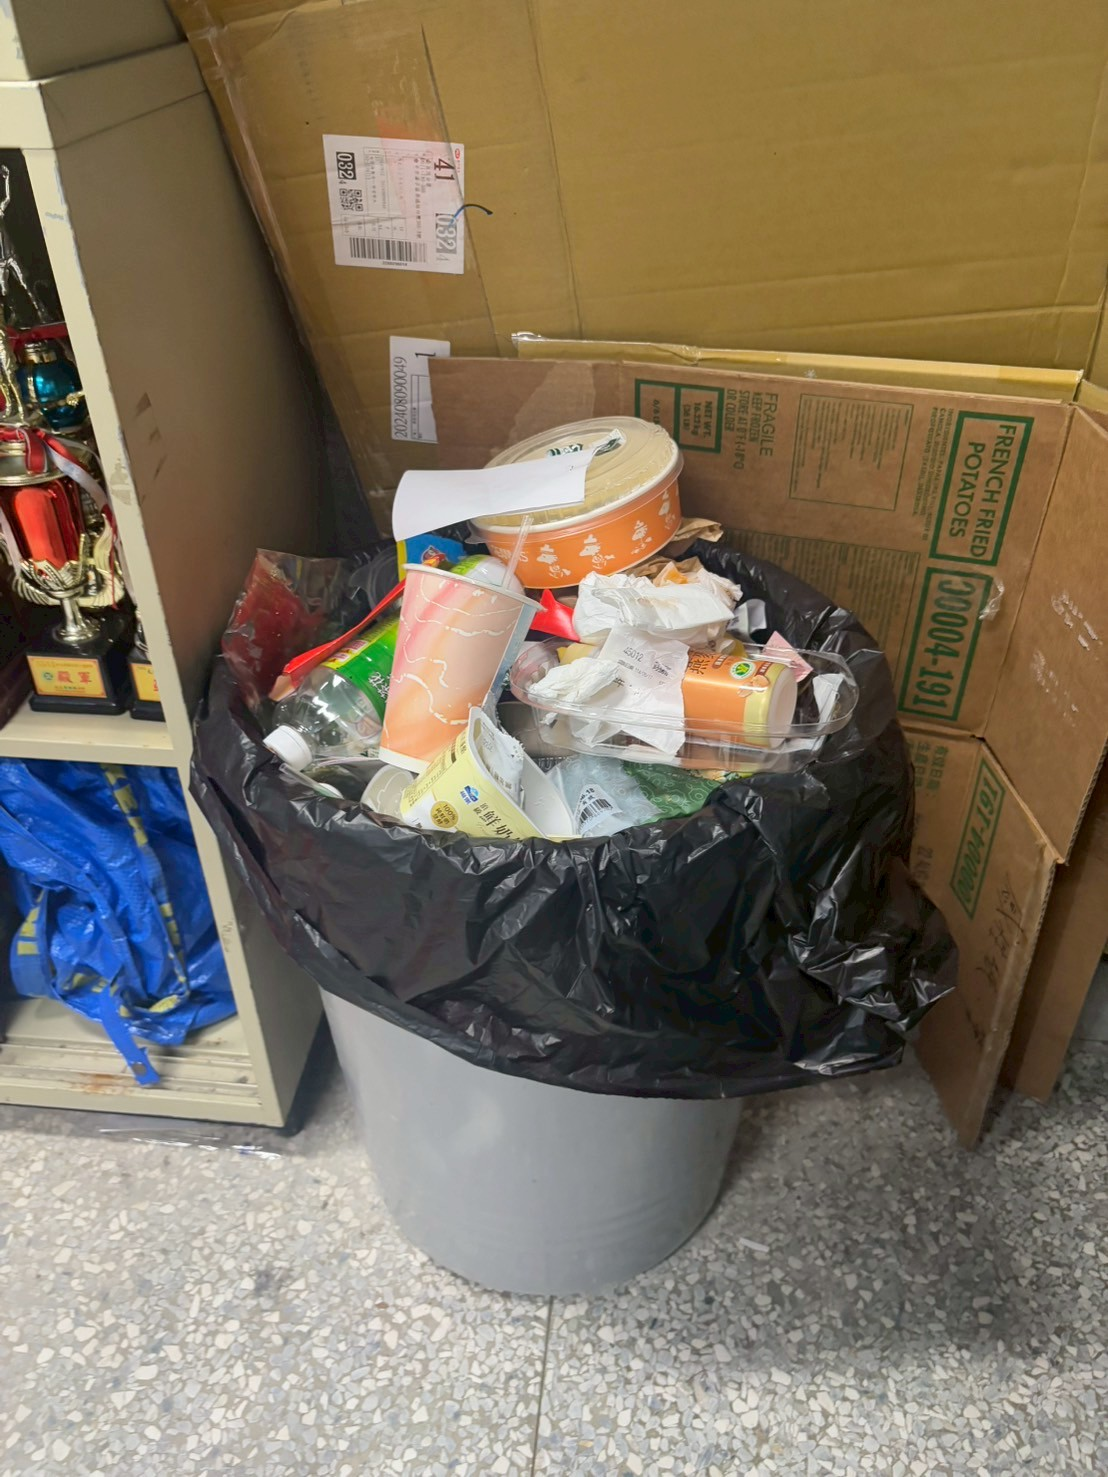overflow_bin: (171, 406, 957, 1305)
